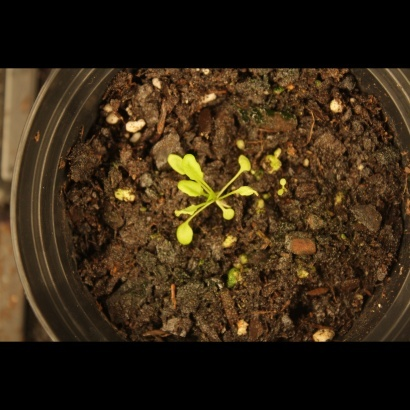leaf: (182, 150, 207, 187), (169, 178, 206, 201), (234, 179, 264, 207), (172, 221, 200, 250), (231, 149, 255, 178), (165, 151, 189, 178), (217, 205, 242, 228)
